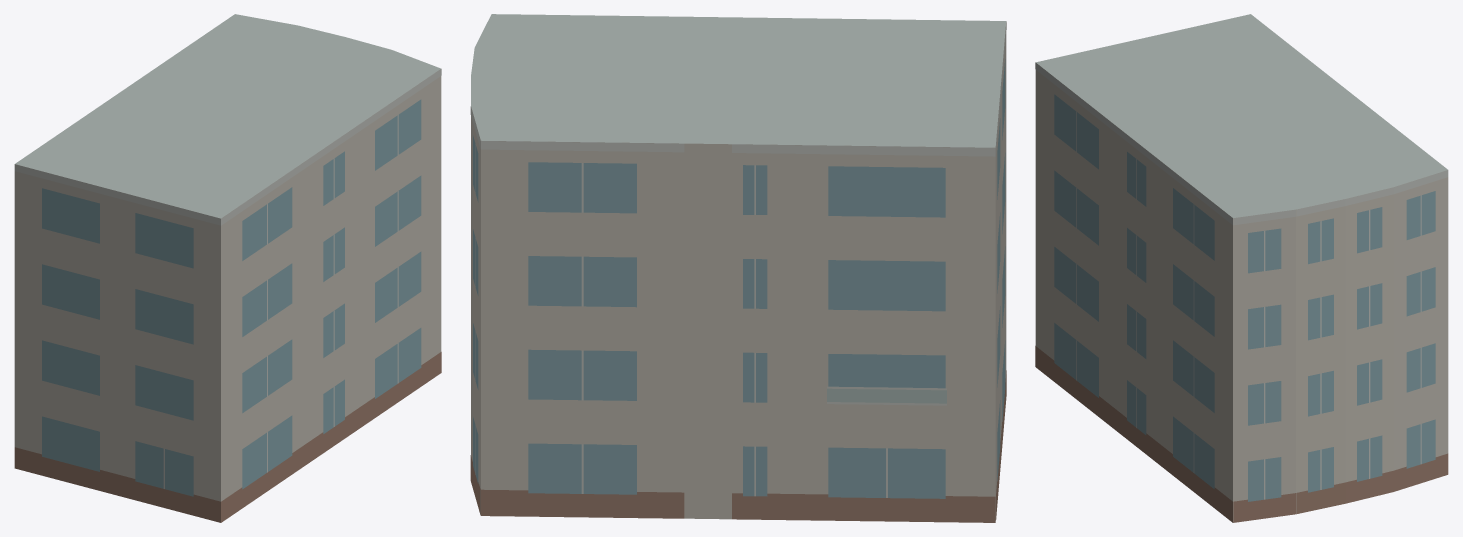
The model's file is survey-upis-32736708.glb.
The picture shows the model from 3 angles, left to right: view 1: azimuth 30°, elevation 25°; view 2: azimuth 150°, elevation 25°; view 3: azimuth 270°, elevation 25°; orthographic projection. The views are drawn at different scales.
Parts seen in each view (by area): view 1: survey-upis-32736708.tmp; view 2: survey-upis-32736708.tmp; view 3: survey-upis-32736708.tmp.
Part boxes in pixels (<box>): survey-upis-32736708.tmp: <box>14,14,441,522</box>; survey-upis-32736708.tmp: <box>470,14,1006,522</box>; survey-upis-32736708.tmp: <box>1035,14,1448,522</box>.
Size of the model in its own units: 14.95 by 10.4 by 12.78.
